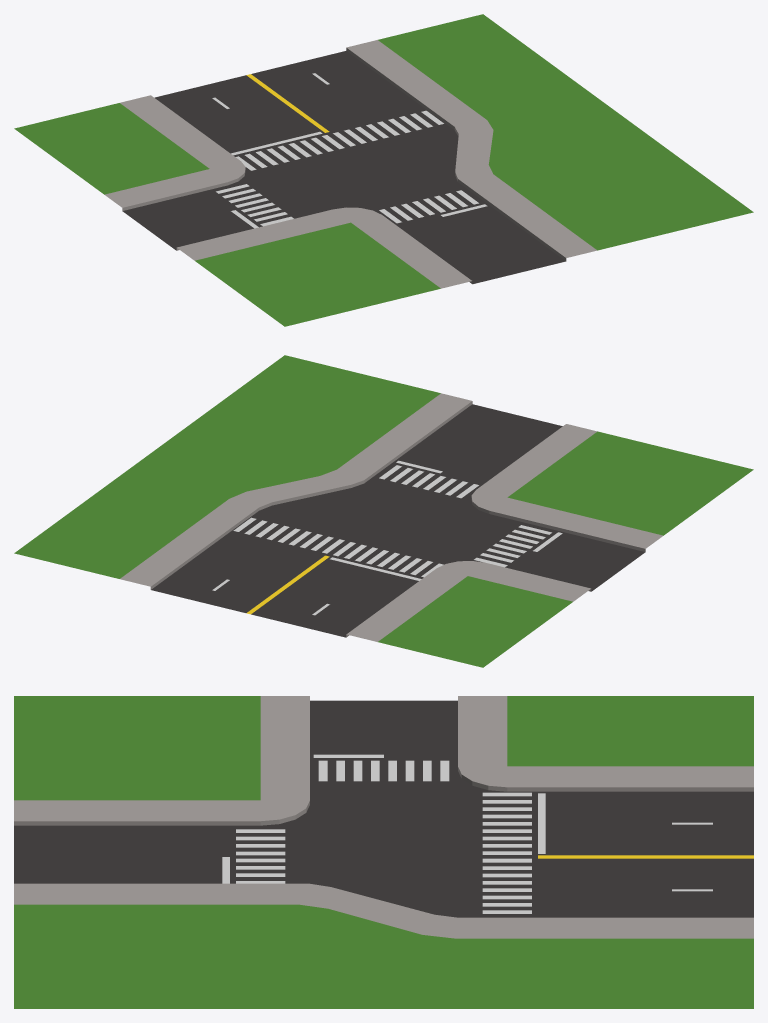
The model's file is tiles-nb_tile-road-to-mainroad-intersection-t-nb.fbx.
The picture shows the model from 3 angles, top to bottom: view 1: azimuth 30°, elevation 25°; view 2: azimuth 150°, elevation 25°; view 3: azimuth 270°, elevation 25°; orthographic projection. The views are drawn at different scales.
Visible parts, largest first — view 1: tiles_nb_tile_road_to_mainroad_intersection_t_nb; view 2: tiles_nb_tile_road_to_mainroad_intersection_t_nb; view 3: tiles_nb_tile_road_to_mainroad_intersection_t_nb.
Boxes of the visible parts, x1,y1,x2,y2 form: tiles_nb_tile_road_to_mainroad_intersection_t_nb: (14, 14, 753, 326); tiles_nb_tile_road_to_mainroad_intersection_t_nb: (14, 355, 753, 667); tiles_nb_tile_road_to_mainroad_intersection_t_nb: (14, 696, 753, 1008).
Size of the model in its own units: 200 by 1.33 by 200.
